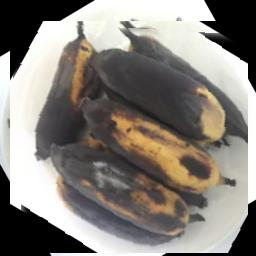Banana Rotten: (11, 21, 249, 253)
